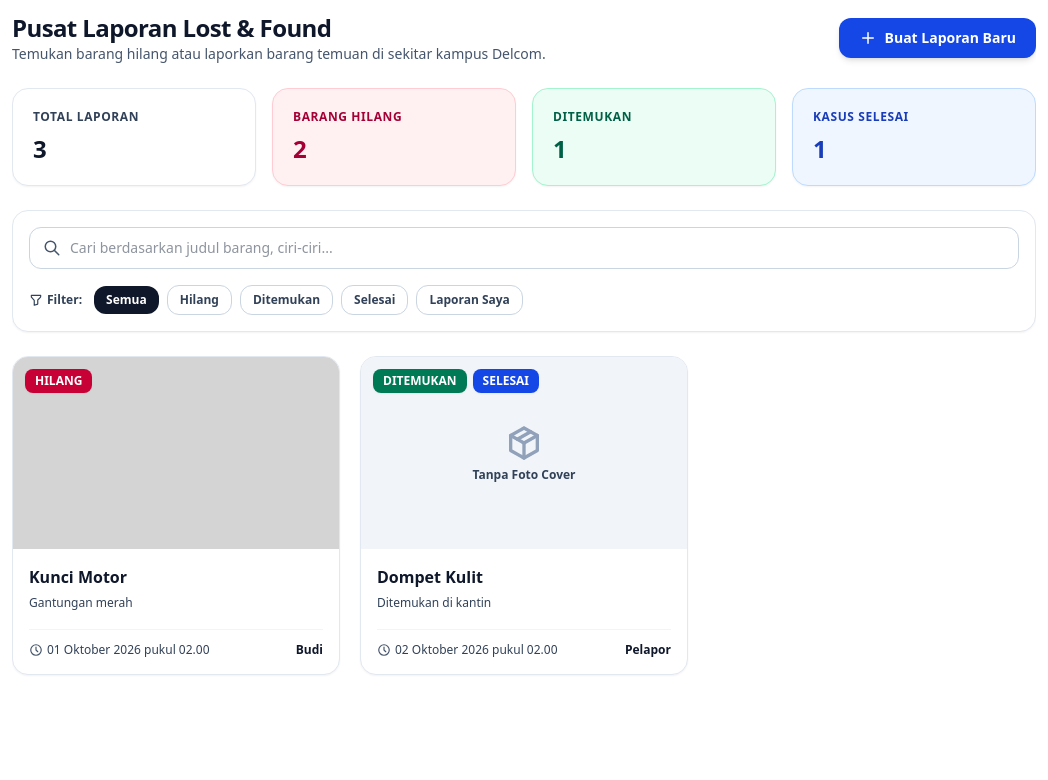
Test: HomePage › should filter reports by search term in title or description
Type "kunci" into the field named "Cari barang hilang atau temuan". click: (524, 248)
box: [29,227,1019,269]
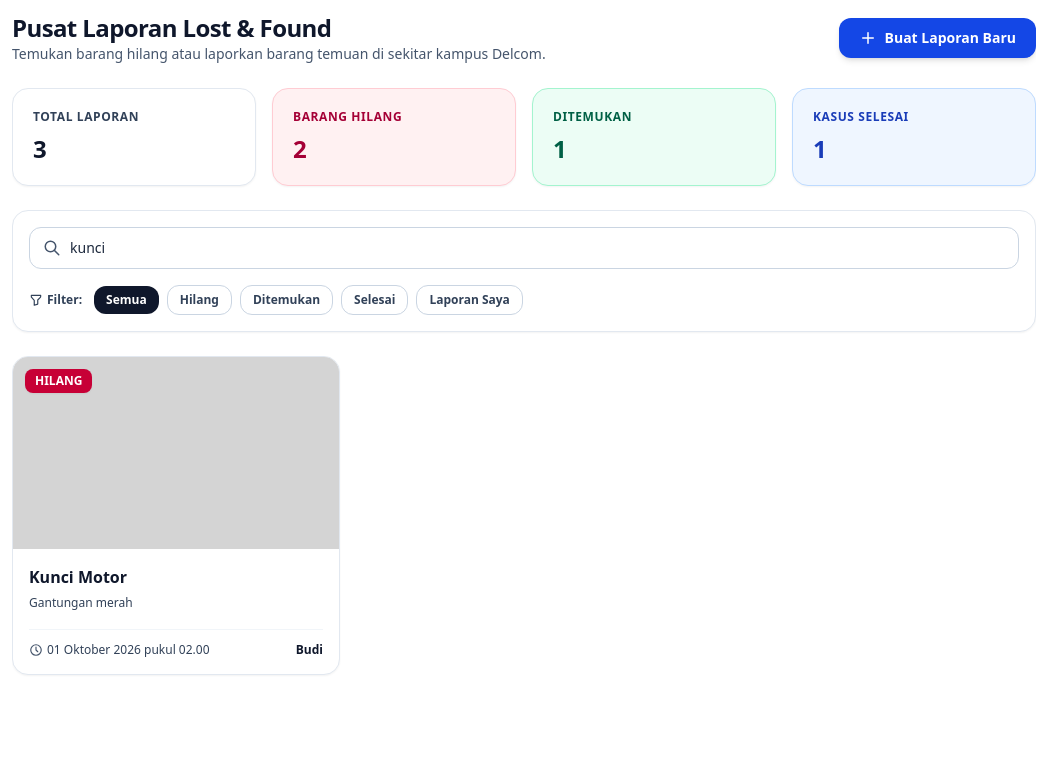
Check: the heading "Kunci Motor" is shown, box [29,566,127,588]
Check: the link "Dompet Kulit" is gone
Replace the text in the field named "Cari barang hilang atau temuan" with "KANTIN". click: (524, 248)
box: [29,227,1019,269]
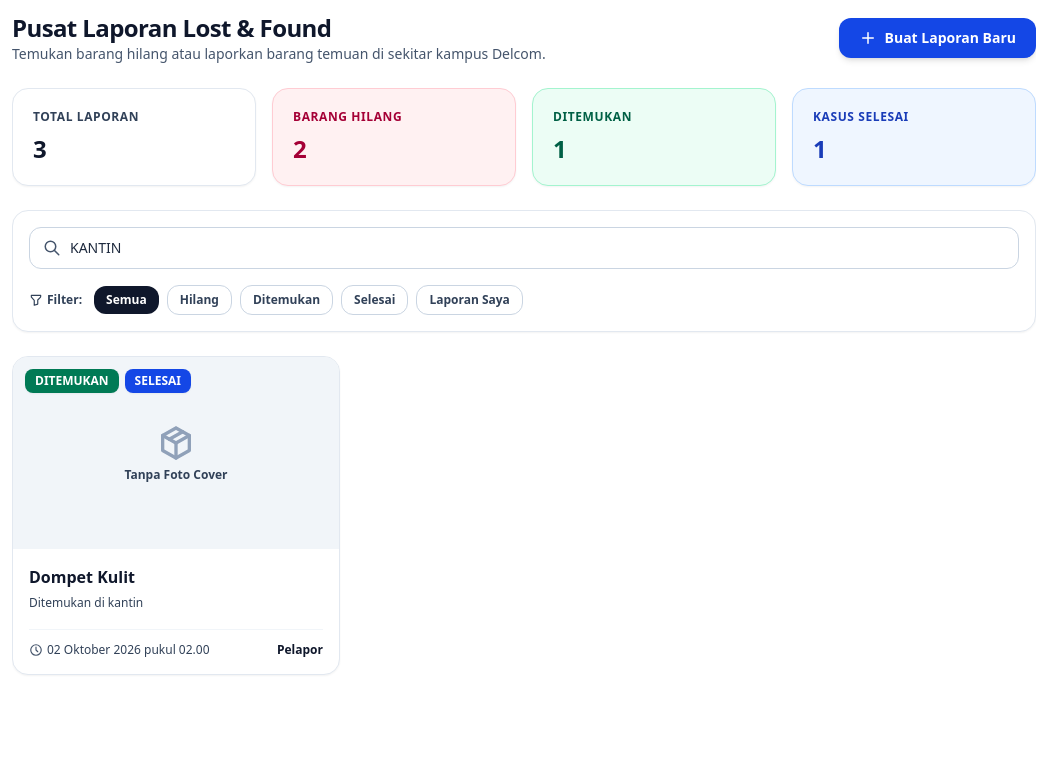
Check: the heading "Dompet Kulit" is shown, box [29,566,135,588]
Check: the link "Kunci Motor" is gone
